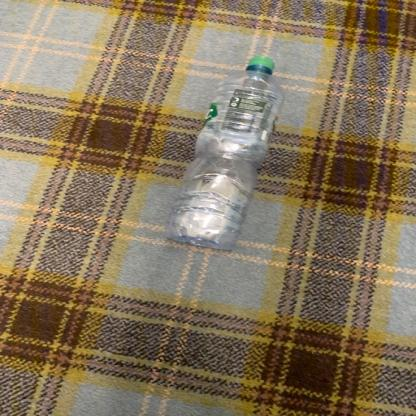trash: (164, 56, 284, 254)
